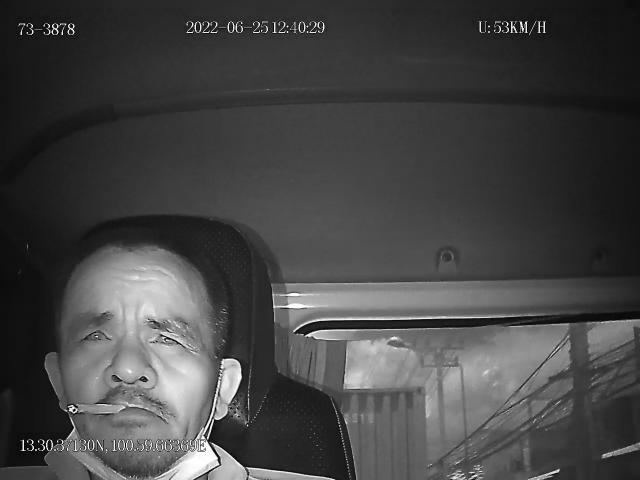SafeDriving: (143, 316, 196, 356), (73, 317, 118, 355)
Smoking: (64, 401, 128, 415)
